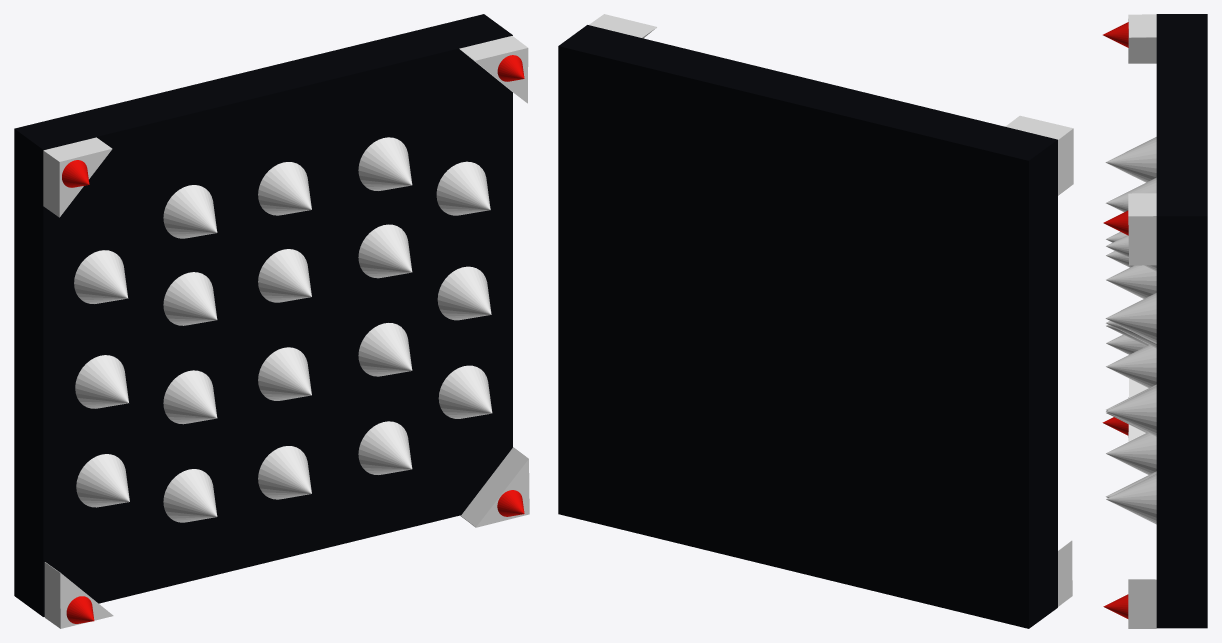
Rendered from trap.fbx.
3 views of the same model, side by side, from view 1: azimuth 30°, elevation 25°; view 2: azimuth 150°, elevation 25°; view 3: azimuth 270°, elevation 25° (orthographic). The views are drawn at different scales.
Visible parts, largest first — view 1: Trap; view 2: Trap; view 3: Trap.
Boxes of the visible parts, left/top/right/bottom form: Trap: left=14, top=14, right=529, bottom=628; Trap: left=558, top=14, right=1073, bottom=628; Trap: left=1102, top=14, right=1207, bottom=628.
Size of the model in its own units: 6.14 by 5.84 by 1.35.
